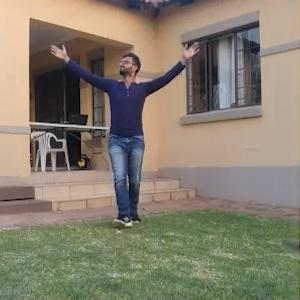takeoff: (62, 49, 202, 227)
